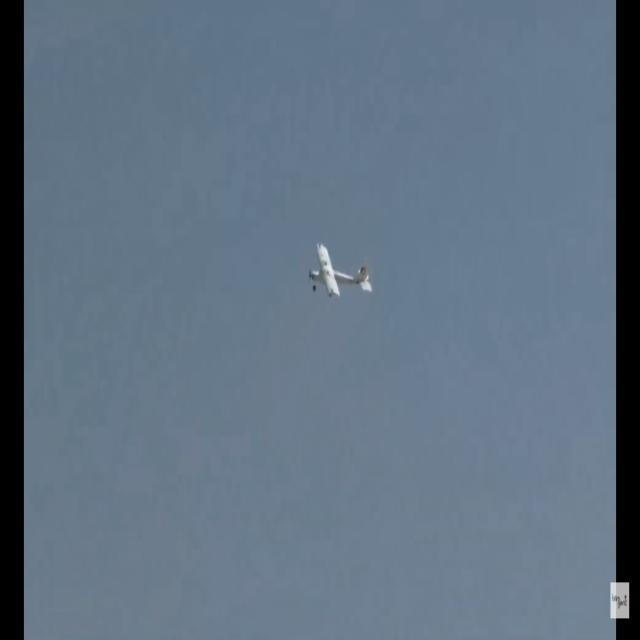iha: (338, 243, 340, 301)
